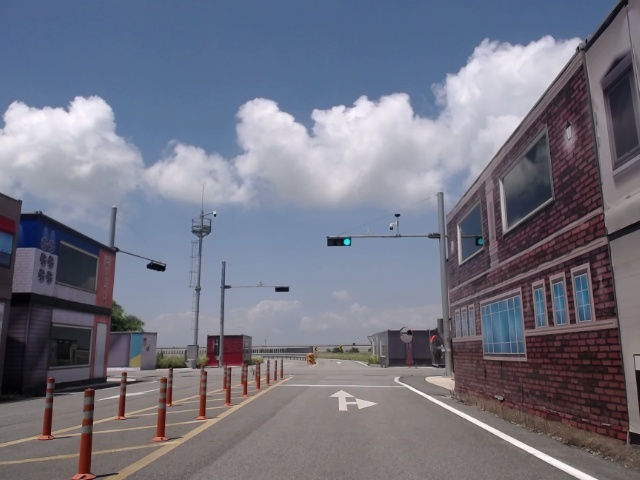green_3: (327, 237, 350, 246)
